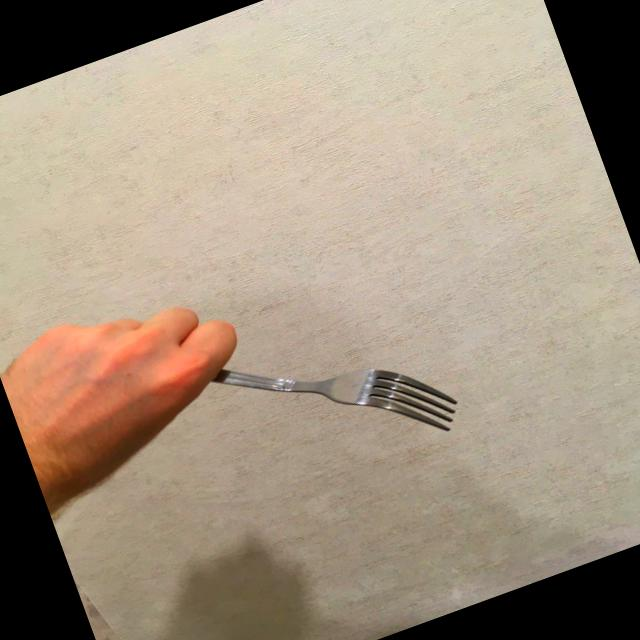fork: (185, 277, 468, 509)
